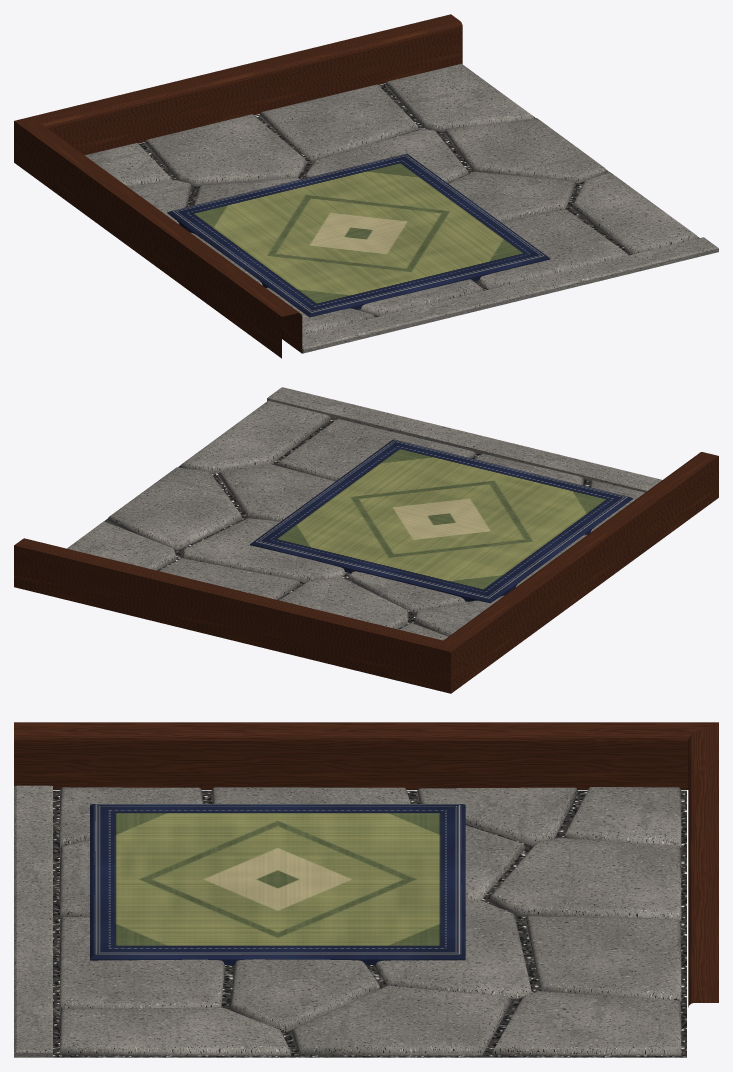
The model's file is genkanfloor.glb.
3 renders of one model, top to bottom at view 1: azimuth 30°, elevation 25°; view 2: azimuth 150°, elevation 25°; view 3: azimuth 270°, elevation 25°, orthographic. The views are drawn at different scales.
Visible parts, largest first — view 1: GenkanStones, GenkanKamachi, GenkanRug, GenkanSill, GenkanMortar; view 2: GenkanStones, GenkanKamachi, GenkanRug, GenkanSill, GenkanMortar; view 3: GenkanStones, GenkanRug, GenkanKamachi, GenkanSill, GenkanMortar.
Boxes of the visible parts, x1,y1,x2,y2 form: GenkanStones: [85, 63, 698, 334]; GenkanKamachi: [14, 14, 462, 358]; GenkanRug: [167, 153, 550, 317]; GenkanSill: [302, 237, 718, 353]; GenkanMortar: [139, 84, 699, 353]; GenkanStones: [67, 400, 644, 640]; GenkanKamachi: [14, 452, 718, 693]; GenkanRug: [250, 439, 633, 603]; GenkanSill: [267, 387, 661, 492]; GenkanMortar: [104, 417, 591, 631]; GenkanStones: [60, 787, 681, 1055]; GenkanRug: [90, 804, 465, 964]; GenkanKamachi: [14, 722, 718, 1007]; GenkanSill: [14, 785, 52, 1057]; GenkanMortar: [53, 790, 686, 1057].
Bounding box in the file's own units: 1.27 × 0.116 × 1.35.
Materials: 4 (4 with a texture image).
